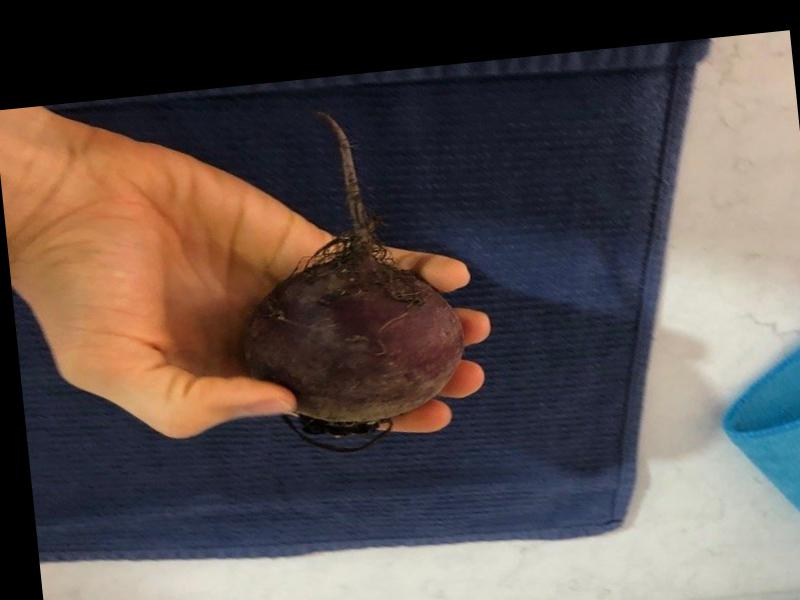Beet: (221, 98, 474, 460)
